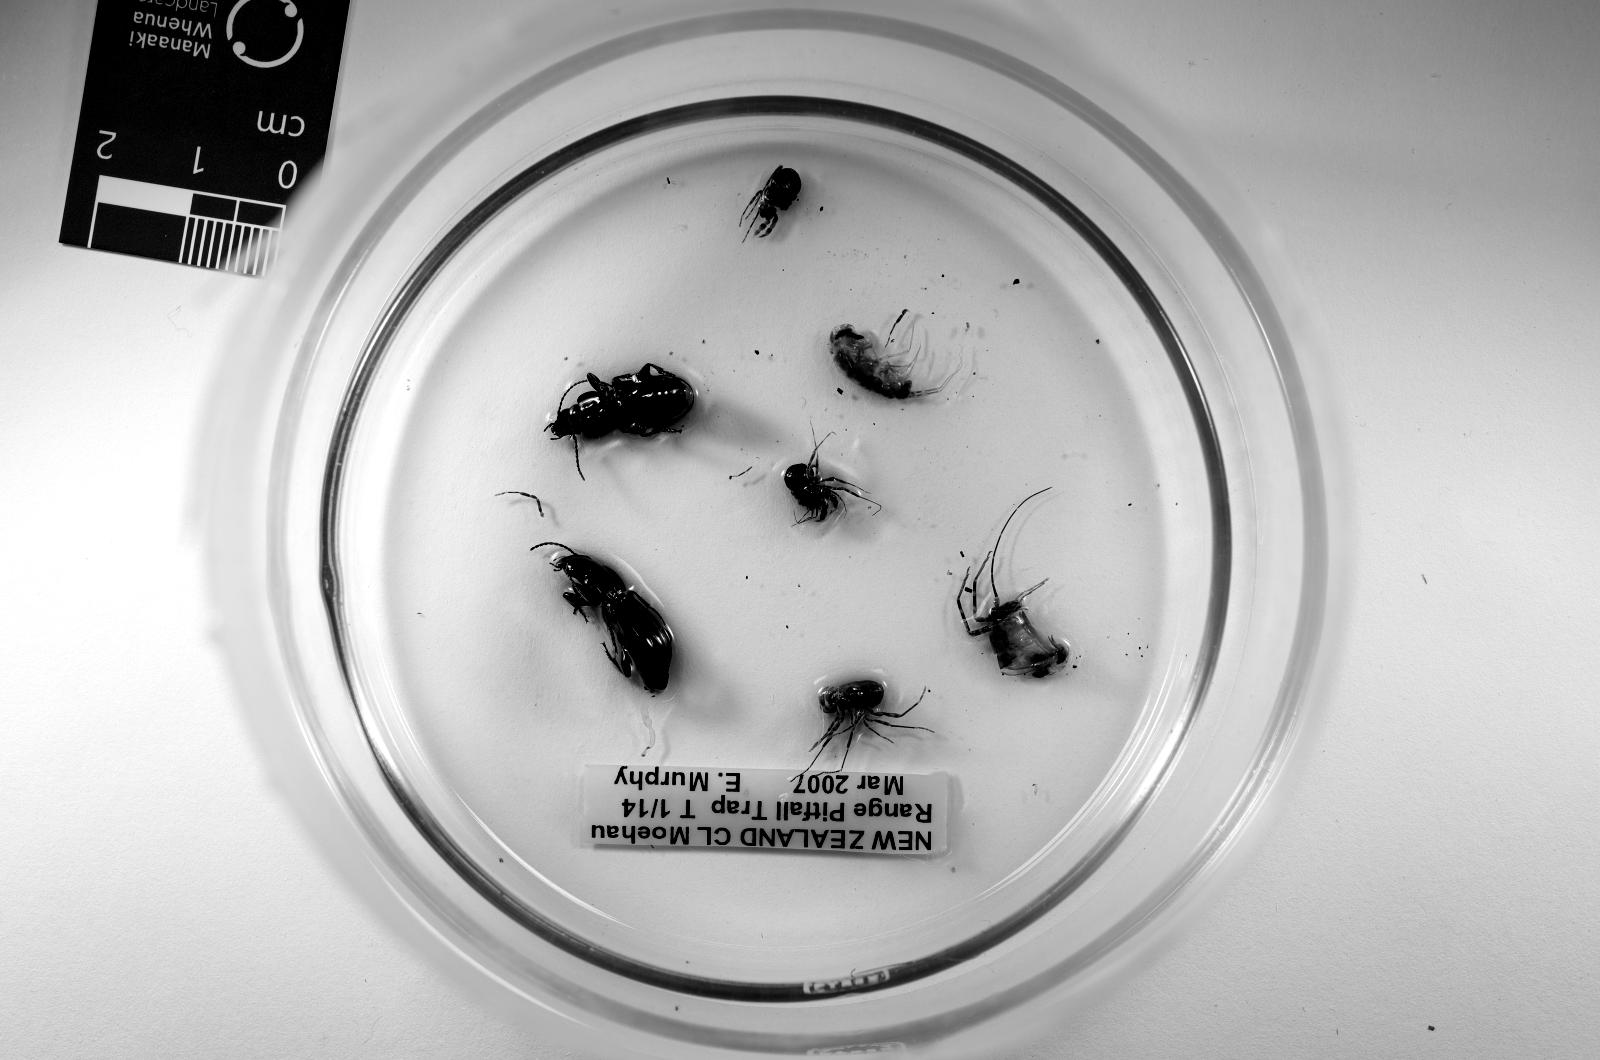amphipoda: (828, 327, 940, 401)
carabidae: (550, 550, 672, 696), (546, 363, 694, 451)
opiliones: (812, 680, 913, 755), (784, 441, 862, 522), (740, 168, 799, 237)
orthoptera: (957, 497, 1069, 677)
